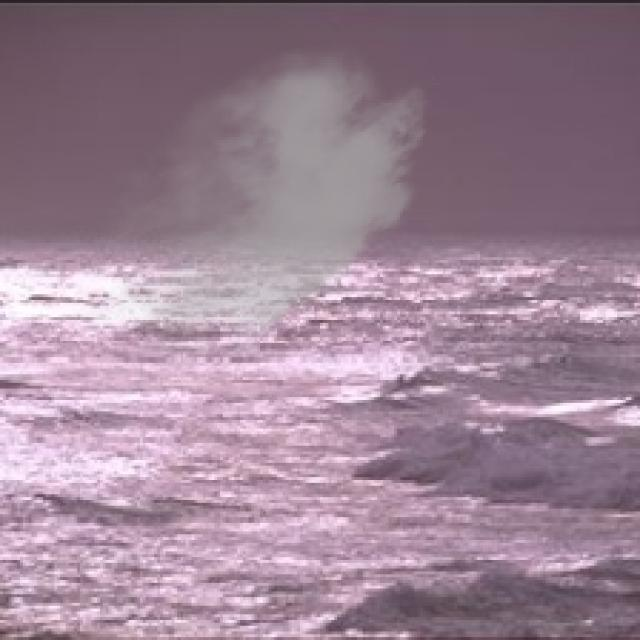smoke: (69, 32, 440, 377)
